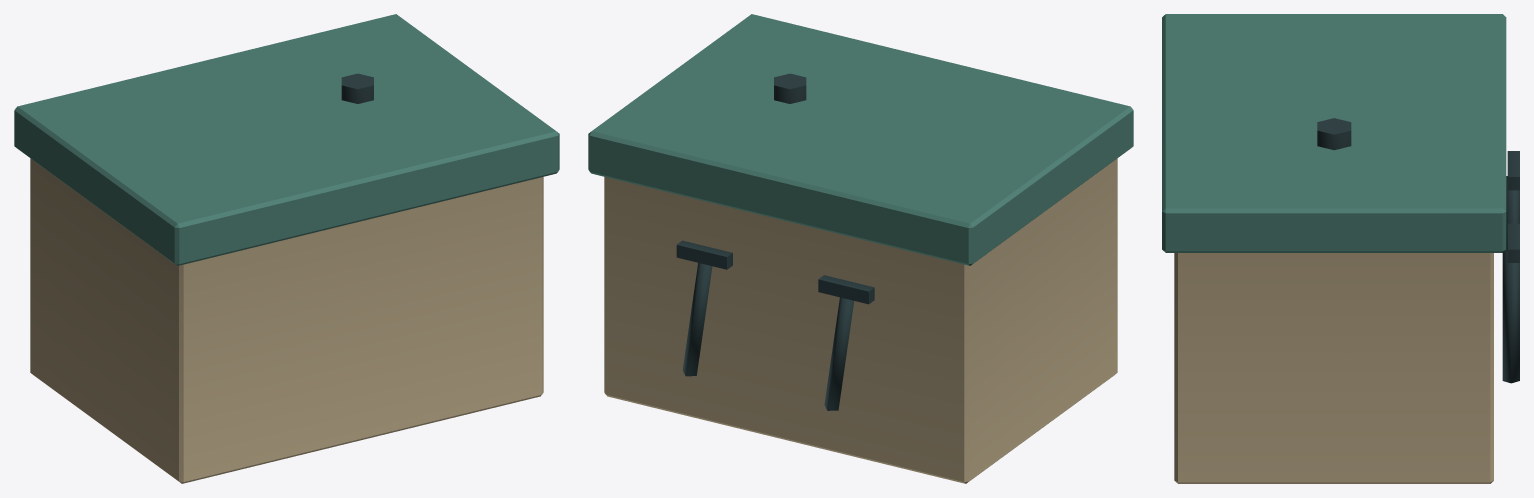
Rendered from nail_box_low.glb.
The picture shows the model from 3 angles, left to right: view 1: azimuth 30°, elevation 25°; view 2: azimuth 150°, elevation 25°; view 3: azimuth 270°, elevation 25°; orthographic projection. The views are drawn at different scales.
Bounding box in the file's own units: 0.19 × 0.1355 × 0.1455.
